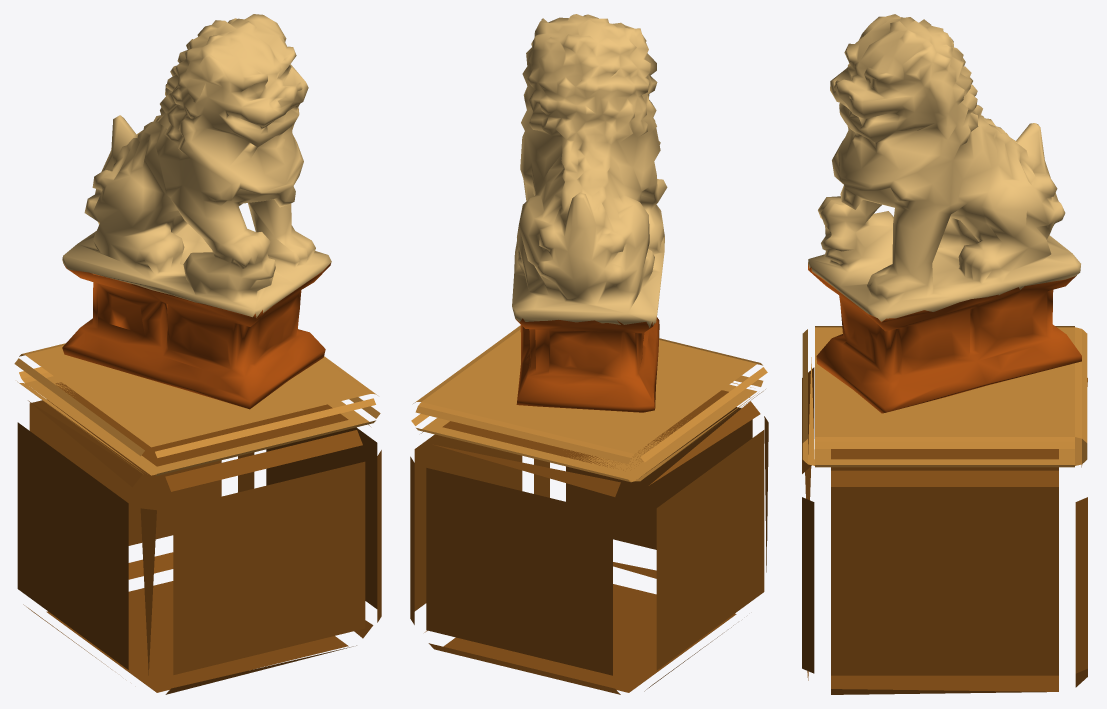
Rendered from yuxi.glb.
The picture shows the model from 3 angles, left to right: view 1: azimuth 30°, elevation 25°; view 2: azimuth 150°, elevation 25°; view 3: azimuth 270°, elevation 25°; orthographic projection. The views are drawn at different scales.
Parts seen in each view (by area): view 1: yuxi; view 2: yuxi; view 3: yuxi.
Part boxes in pixels (<box>): yuxi: <box>14,14,381,694</box>; yuxi: <box>410,14,768,694</box>; yuxi: <box>802,14,1087,694</box>.
Bounding box in the file's own units: 0.415 × 0.9786 × 0.415.
1 material, 1 textured.
